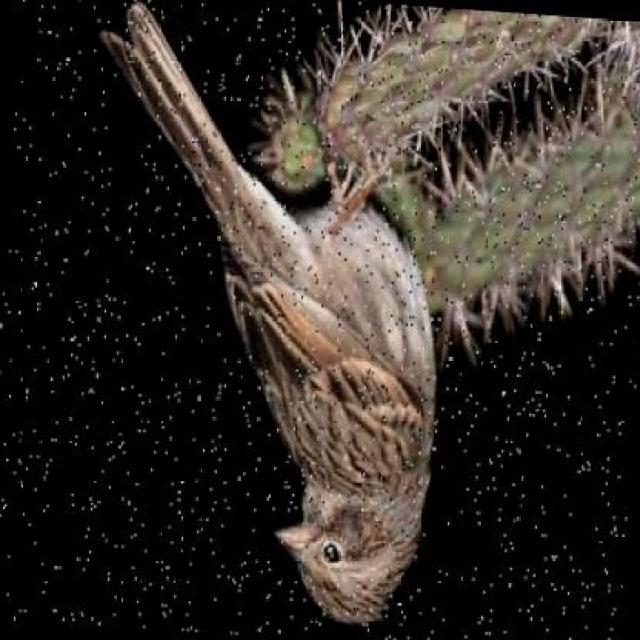Bird: (101, 11, 489, 624)
